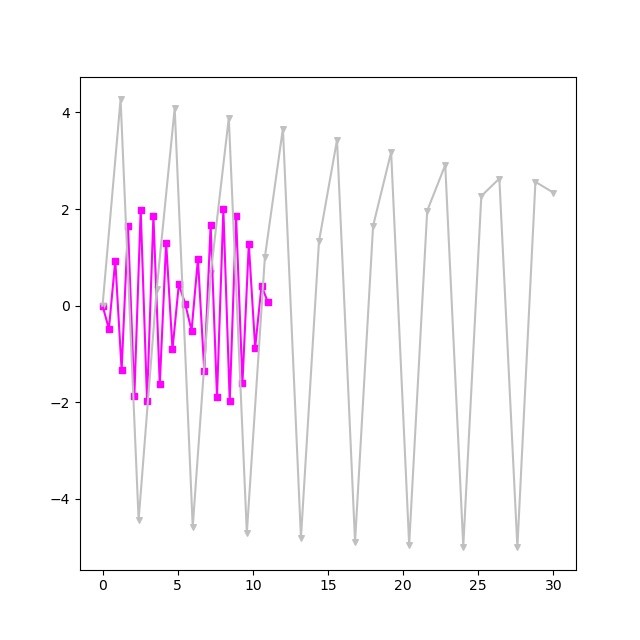square: (98, 301, 108, 311), (104, 324, 114, 334), (111, 256, 121, 266), (117, 366, 127, 376), (123, 221, 133, 231), (130, 392, 140, 402), (136, 205, 146, 215), (143, 397, 153, 407), (149, 211, 159, 221), (155, 380, 165, 390), (162, 238, 172, 248), (168, 345, 178, 355), (174, 280, 184, 290), (181, 299, 191, 309), (187, 326, 197, 336), (193, 254, 203, 264), (200, 367, 210, 377), (206, 220, 216, 230), (213, 392, 223, 402), (219, 205, 229, 215), (225, 397, 235, 407), (232, 212, 242, 222), (238, 379, 248, 389), (244, 239, 254, 249), (251, 343, 261, 353), (257, 281, 267, 291), (263, 298, 273, 308)
triangle_down: (99, 302, 108, 311), (117, 95, 126, 104), (135, 516, 144, 525), (153, 285, 162, 294), (171, 104, 180, 113), (189, 523, 198, 532), (207, 269, 216, 278), (225, 114, 234, 123), (243, 529, 252, 538), (261, 253, 270, 262), (279, 125, 288, 134), (297, 534, 306, 543), (315, 237, 324, 246), (333, 136, 342, 145), (351, 538, 360, 547), (369, 222, 378, 231), (387, 148, 396, 157), (405, 541, 414, 550), (423, 207, 432, 216), (441, 161, 450, 170), (459, 543, 468, 552), (477, 192, 486, 201), (495, 175, 504, 184), (513, 543, 522, 552), (531, 178, 540, 187), (549, 189, 558, 198)
